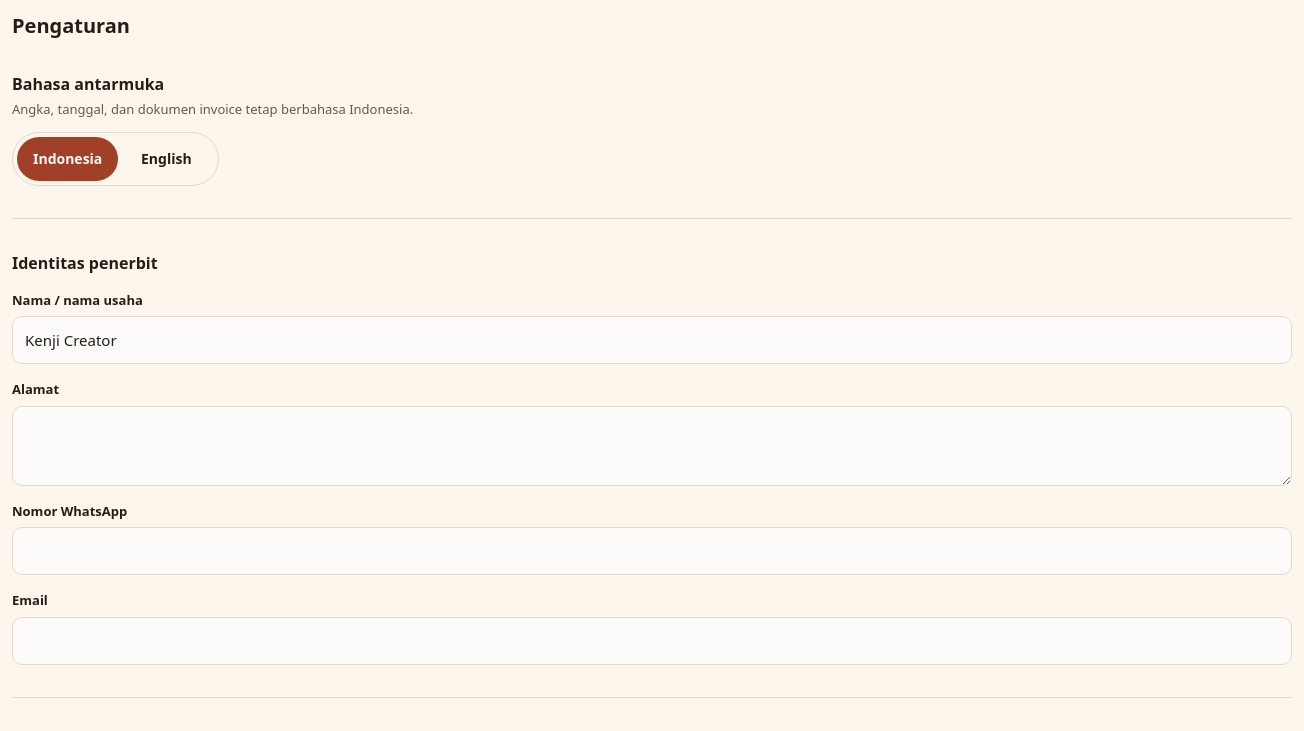
it: SettingsForm — interface language › switches heading text immediately and persists via the language API, without reload
The width and height of the screenshot is (1304, 731).
Expected: the heading "Bahasa antarmuka" is shown, [12,73,164,95]
Click the button "English". click: click(166, 158)
box: [118,136,214,180]
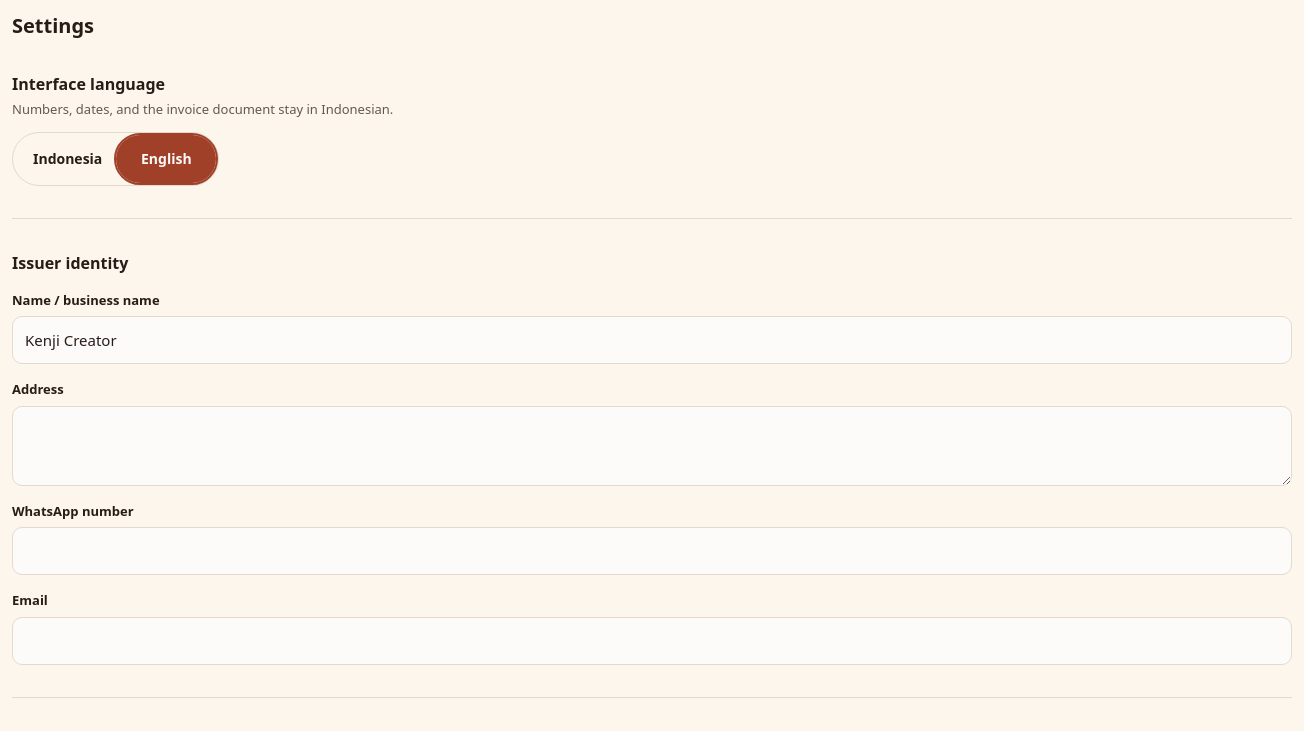
Now the heading "Interface language" is shown, box [12,73,165,95]
